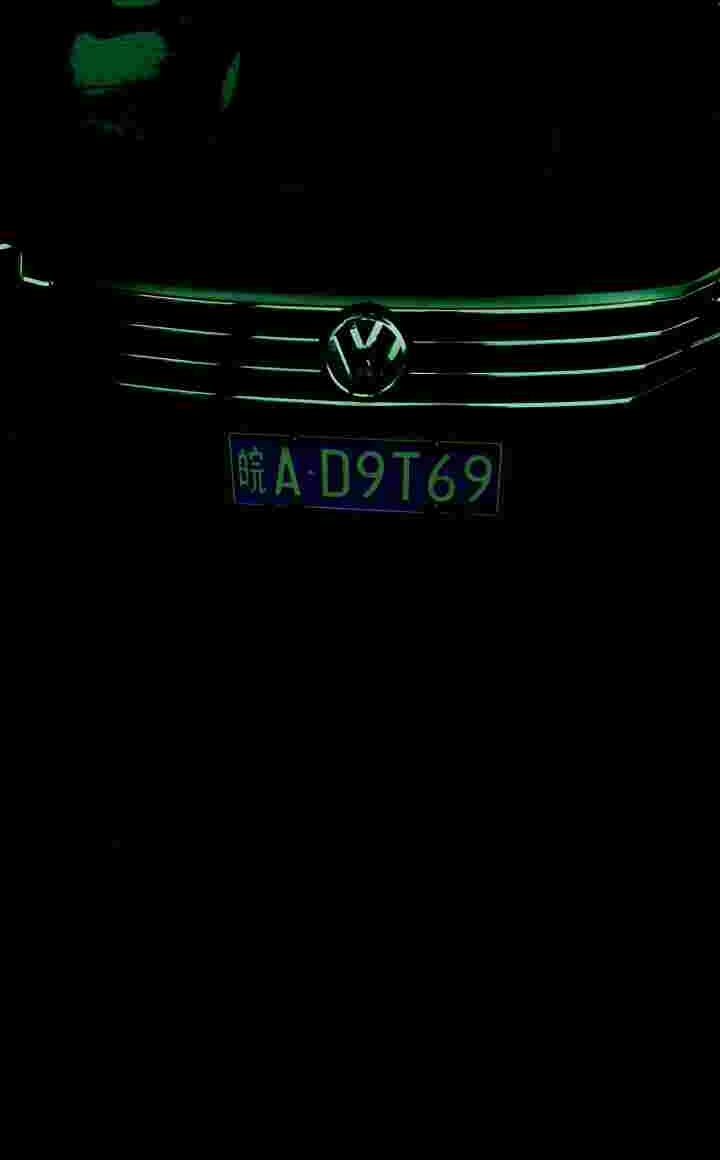car: (221, 425, 508, 514)
